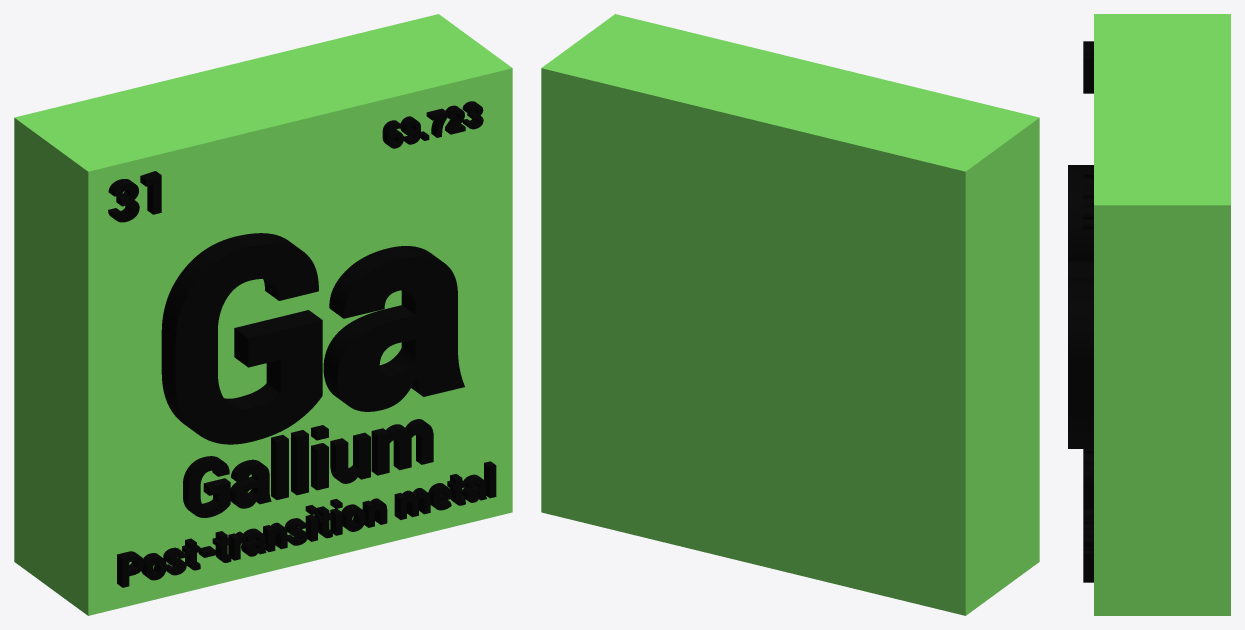
The picture shows the model from 3 angles, left to right: view 1: azimuth 30°, elevation 25°; view 2: azimuth 150°, elevation 25°; view 3: azimuth 270°, elevation 25°; orthographic projection. The views are drawn at different scales.
Parts seen in each view (by area): view 1: Cube, Text, Text.001, Text.002, Text.004, Text.003; view 2: Cube; view 3: Cube, Text, Text.002, Text.001, Text.004, Text.003.
Part boxes in pixels (x1,y1,x2,y2): Cube: [14, 14, 512, 615]; Text: [161, 233, 464, 444]; Text.001: [183, 419, 433, 517]; Text.002: [117, 461, 496, 587]; Text.004: [382, 101, 483, 148]; Text.003: [108, 171, 161, 222]; Cube: [541, 14, 1039, 615]; Cube: [1094, 14, 1230, 615]; Text: [1068, 165, 1093, 448]; Text.002: [1083, 508, 1093, 582]; Text.001: [1083, 449, 1093, 507]; Text.004: [1083, 171, 1093, 229]; Text.003: [1083, 41, 1093, 93].
Bounding box in the file's own units: 178 × 178 × 63.95.
